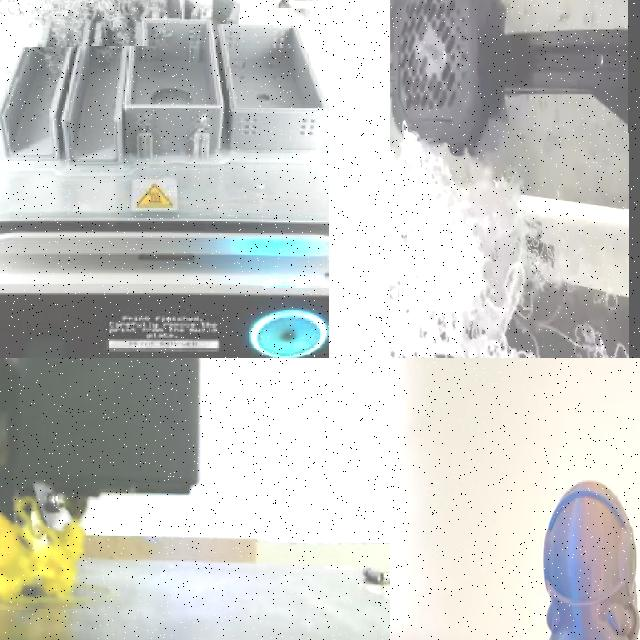spaghetti: (390, 131, 629, 358), (0, 496, 86, 610), (0, 0, 180, 47)
